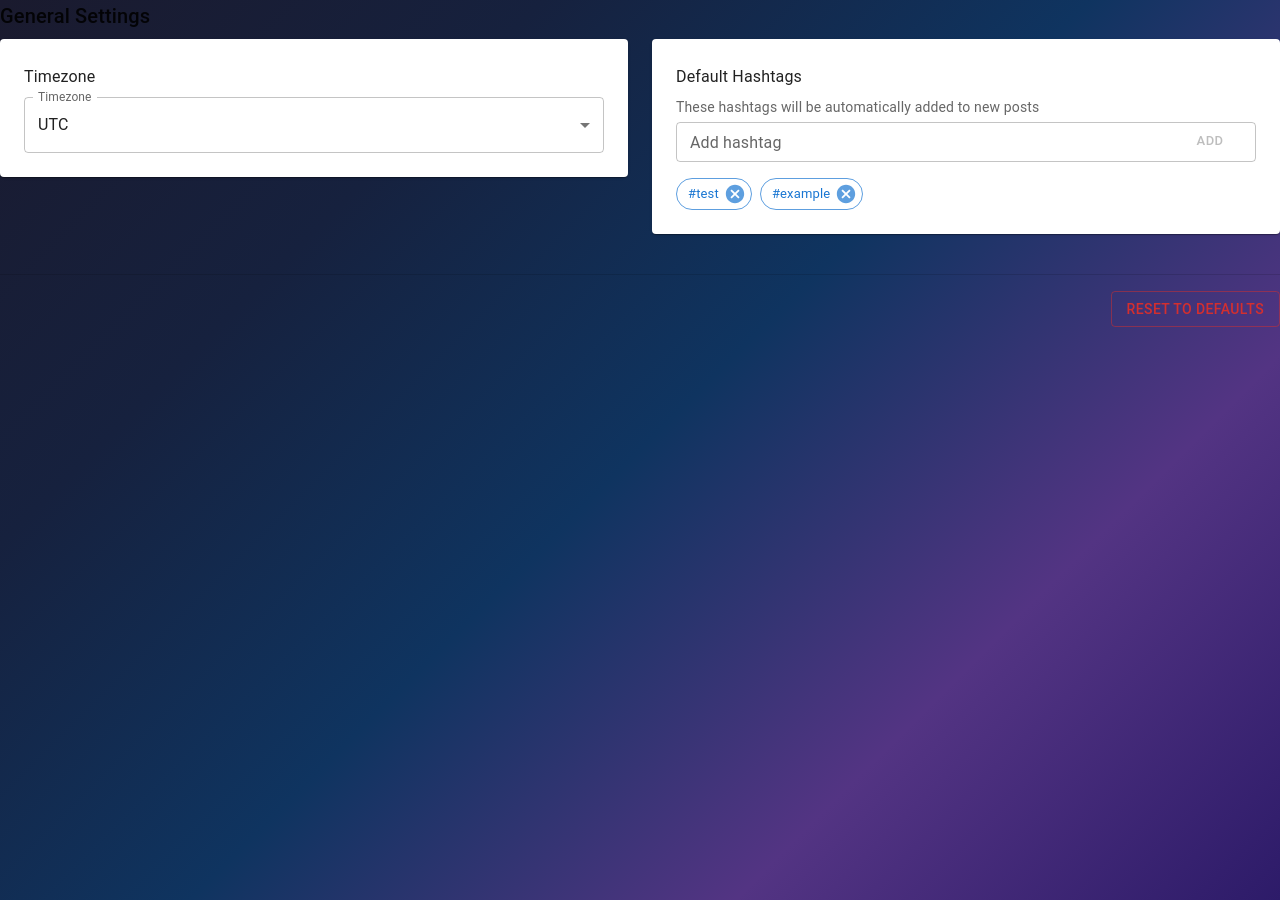
Scenario: GeneralSettings › should show reset confirmation dialog
Click the button "Reset to Defaults": [1195, 309] box [1111,290,1279,327]
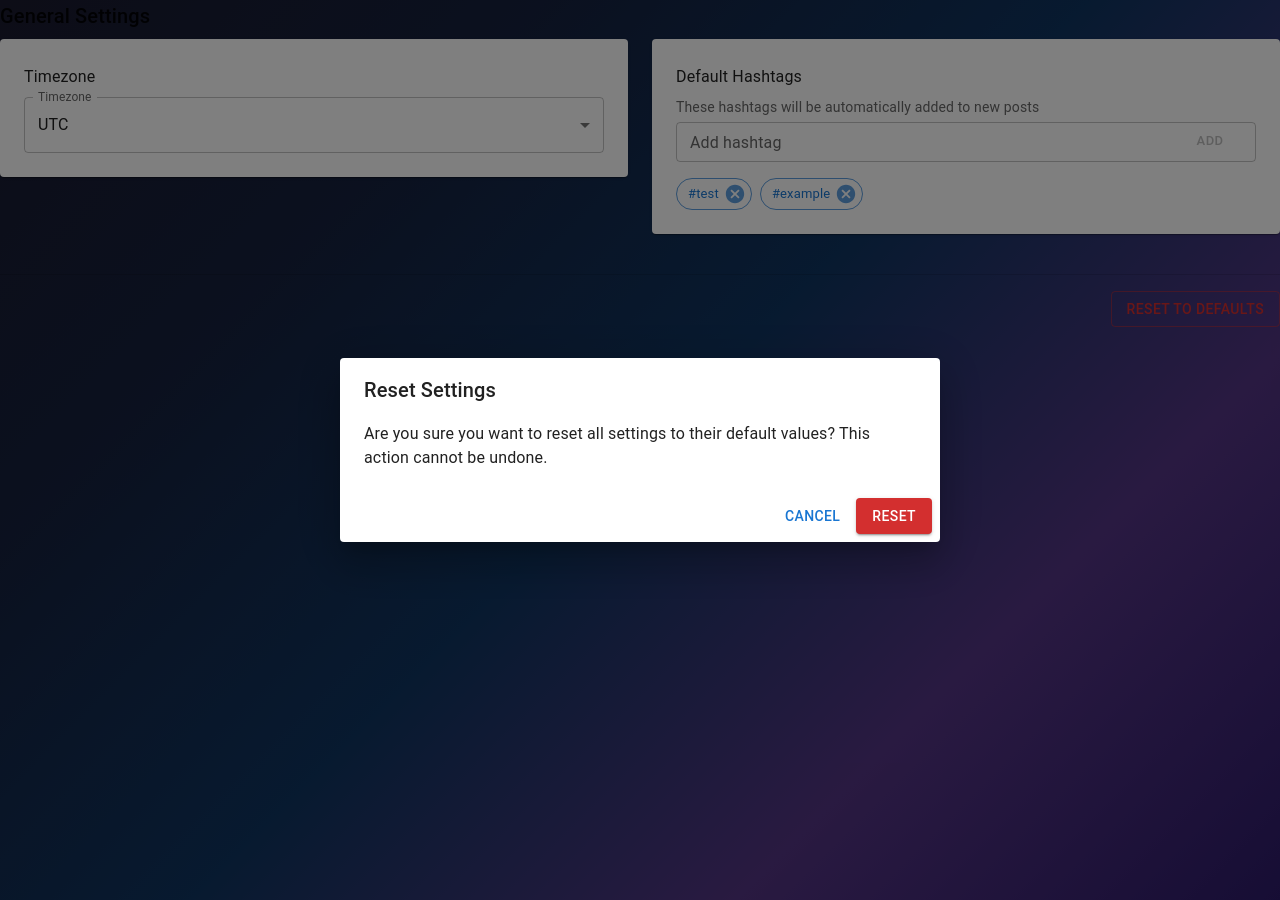
Expected: the heading "Reset Settings" is shown, [364,378,496,402]
Expected: the text "Are you sure you want to reset all settings" is shown, [364,424,870,467]
